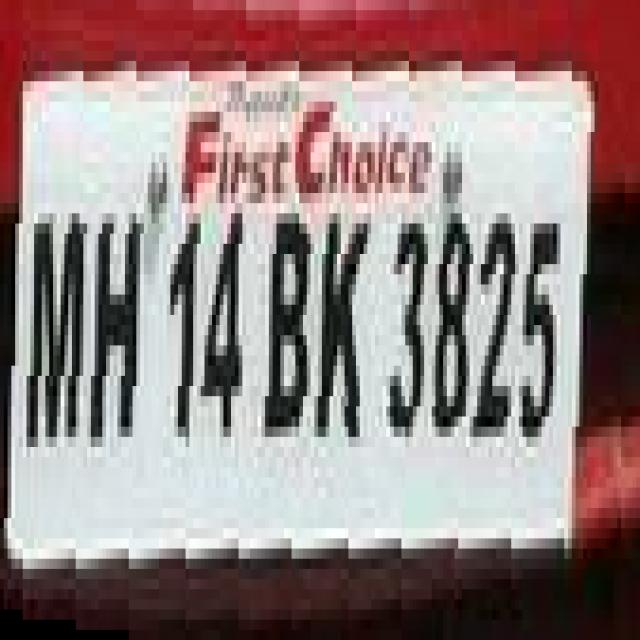license_plate: (12, 51, 594, 548)
